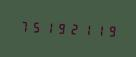five: (29, 17, 40, 35)
nine: (101, 21, 112, 39), (53, 19, 64, 36)
one: (41, 18, 52, 36), (77, 20, 88, 38), (89, 21, 100, 38)
seven: (17, 17, 28, 34)
two: (65, 19, 76, 37)
